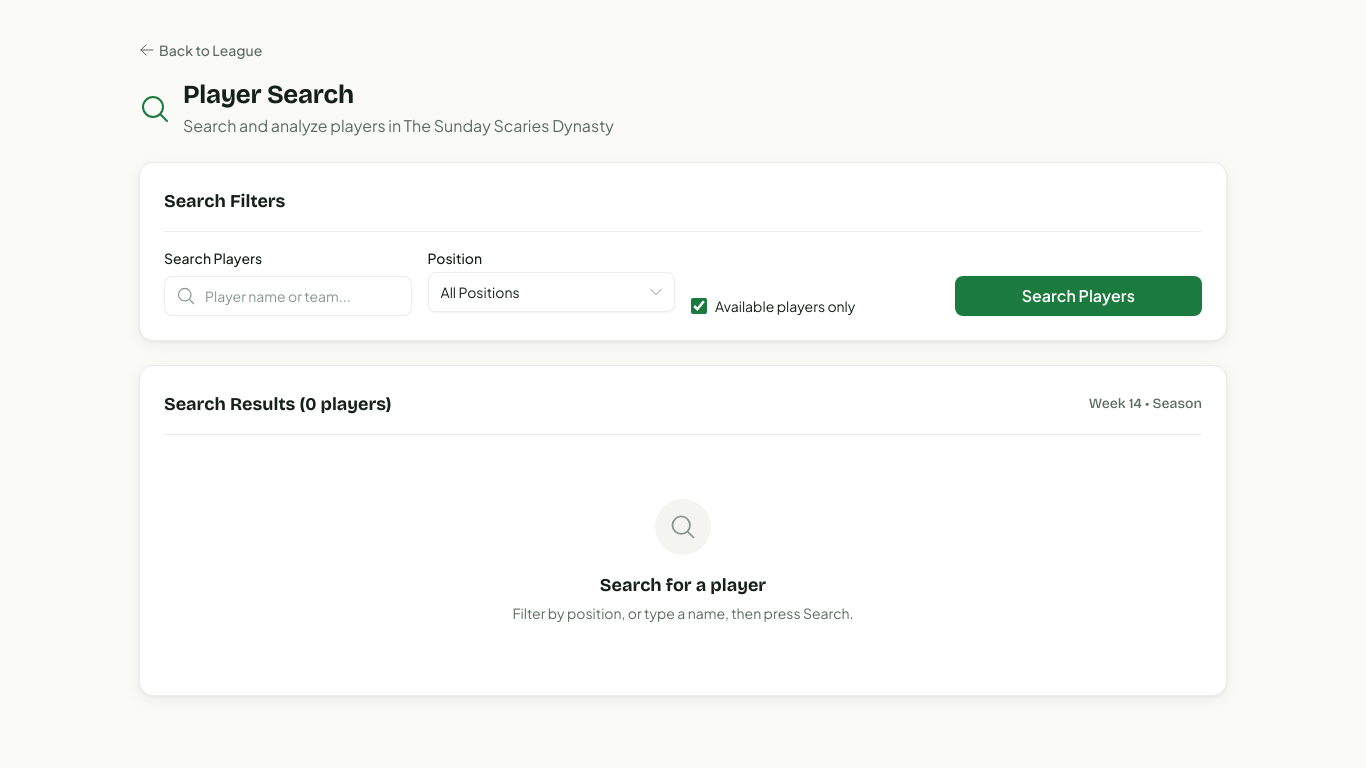
PlayerSearchPage › reports an empty result once a search has actually run
The width and height of the screenshot is (1366, 768).
Click the button "Search Players".
click(1078, 296)  # box [954,276,1202,316]
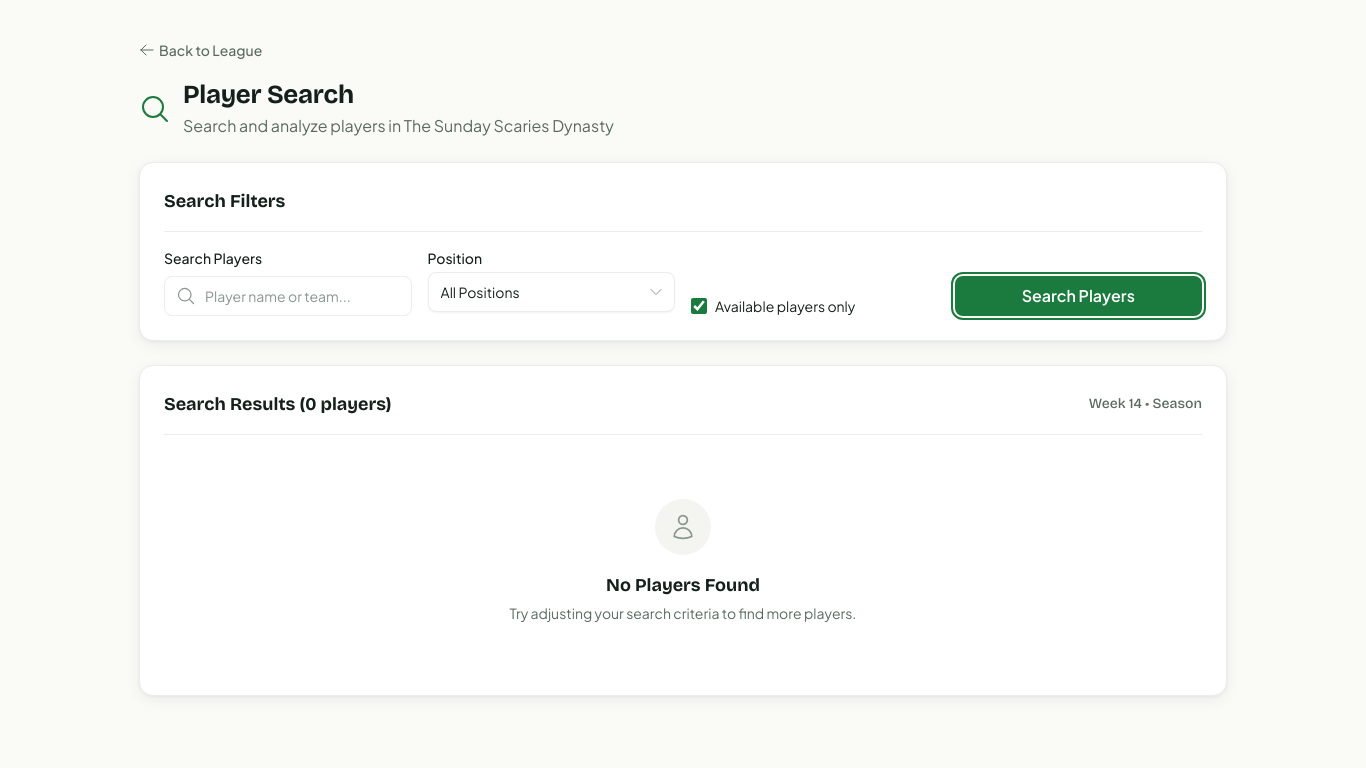
Check: the heading "No Players Found" is shown, box [606,571,760,599]
